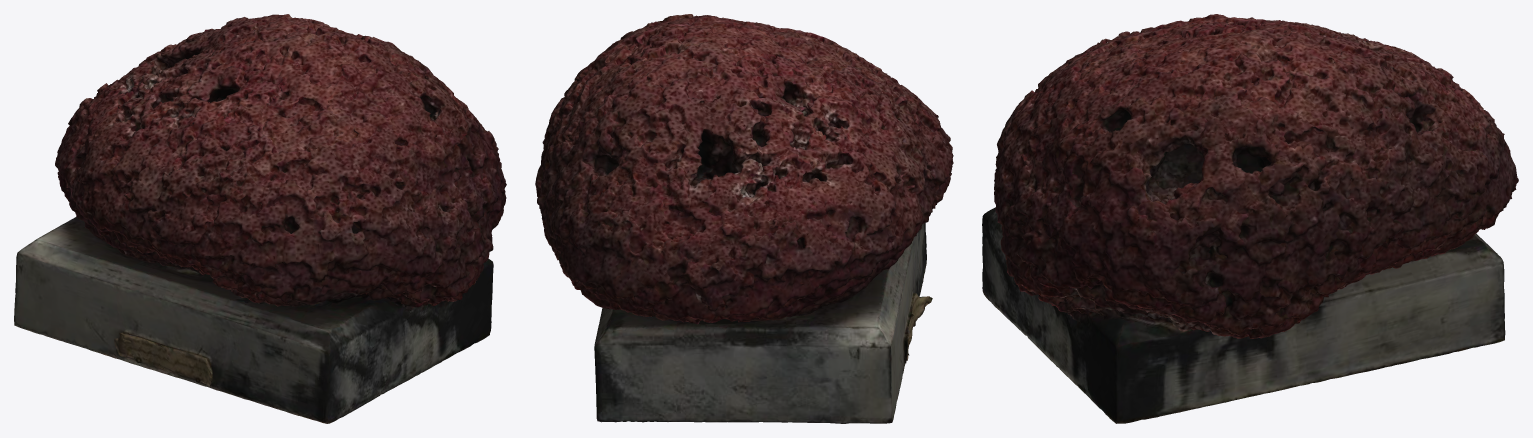
The picture shows the model from 3 angles, left to right: view 1: azimuth 30°, elevation 25°; view 2: azimuth 150°, elevation 25°; view 3: azimuth 270°, elevation 25°; orthographic projection. The views are drawn at different scales.
Parts seen in each view (by area): view 1: orientacao; view 2: orientacao; view 3: orientacao.
Boxes of the visible parts, <box> form: orientacao: <box>14,14,506,423</box>; orientacao: <box>535,14,953,423</box>; orientacao: <box>982,14,1518,423</box>.
Bounding box in the file's own units: 7878 × 5445 × 8328.
Materials: 1 (1 with a texture image).
